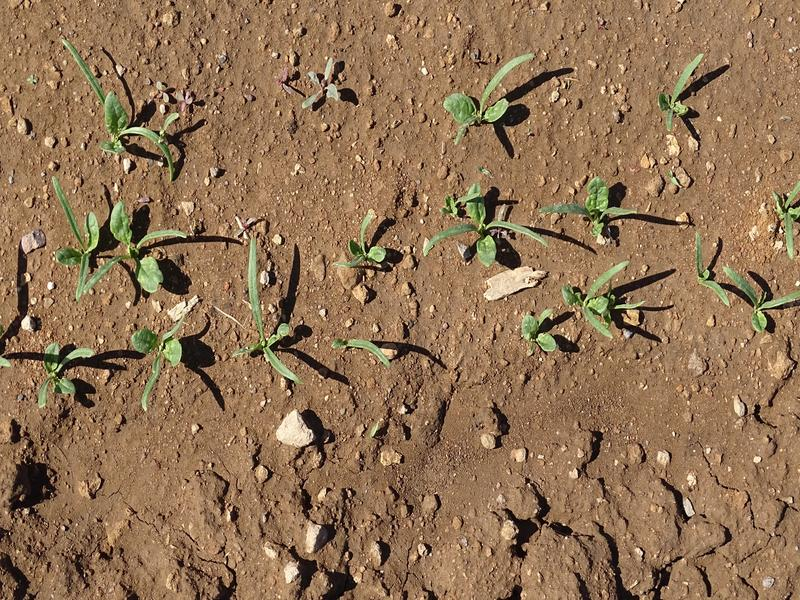Espinaca: (40, 42, 191, 295), (423, 186, 638, 251), (514, 256, 624, 359), (687, 238, 800, 331), (242, 242, 305, 382), (123, 315, 203, 414), (449, 52, 537, 139), (660, 55, 714, 135), (36, 340, 90, 411), (346, 215, 389, 268)
